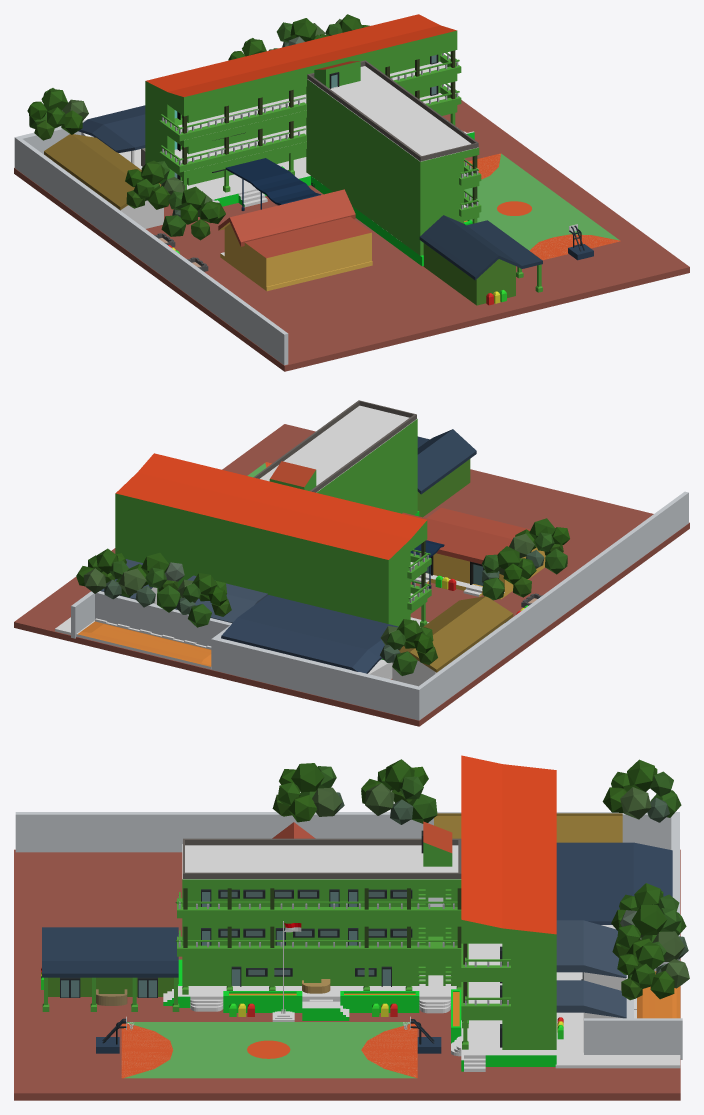
The model's file is sekolah 1.3.glb.
3 views of the same model, one above another, from view 1: azimuth 30°, elevation 25°; view 2: azimuth 150°, elevation 25°; view 3: azimuth 270°, elevation 25° (orthographic). The views are drawn at different scales.
Parts seen in each view (by area): view 1: Plane, bangunan lantai 2.003, Plane.002, Plane.001, bangunan lantai 2.002, ruang ukas dan ruang osis, Cube.047, bangunan lantai 2, bangunan lantai 2.001, Cube.006, bangunan lantai satu, bangunan lantai 1 (+4 smaller); view 2: Plane.001, bangunan lantai 2.003, Plane, bangunan lantai 2, Plane.002, bangunan lantai 2.002, ruang ukas dan ruang osis, Cube.006, Cube.047, Cube.008, bangunan lantai 2.001, pembatas rooftop (+5 smaller); view 3: Plane, Plane.001, Plane.002, bangunan lantai 2.003, bangunan lantai 2.002, lantai.001, bangunan lantai 2.001, Cube.047, bangunan lantai satu, Cube.008, pembatas rooftop, bangunan lantai 2 (+17 smaller).
Part boxes in pixels (x1,y1,x2,y2): Plane: (15, 100, 689, 365); bangunan lantai 2.003: (145, 14, 461, 141); Plane.002: (14, 101, 689, 371); Plane.001: (14, 105, 288, 365); bangunan lantai 2.002: (161, 52, 481, 192); ruang ukas dan ruang osis: (218, 189, 372, 291); Cube.047: (419, 215, 542, 305); bangunan lantai 2: (145, 61, 461, 172); bangunan lantai 2.001: (161, 83, 481, 224); Cube.006: (44, 134, 163, 228); bangunan lantai satu: (306, 142, 479, 255); bangunan lantai 1: (145, 93, 457, 192); Plane.001: (71, 491, 688, 720); bangunan lantai 2.003: (115, 453, 431, 591); Plane: (14, 424, 689, 720); bangunan lantai 2: (115, 525, 431, 622); Plane.002: (14, 425, 689, 726); bangunan lantai 2.002: (260, 405, 430, 571); ruang ukas dan ruang osis: (402, 507, 545, 599); Cube.006: (382, 596, 513, 686); Cube.047: (417, 429, 476, 517); Cube.008: (55, 617, 392, 679); bangunan lantai 2.001: (348, 450, 430, 602); pembatas rooftop: (253, 400, 416, 492); Plane: (14, 849, 680, 1093); Plane.001: (15, 812, 682, 1059); Plane.002: (14, 852, 680, 1100); bangunan lantai 2.003: (461, 755, 556, 975); bangunan lantai 2.002: (175, 844, 510, 966); lantai.001: (163, 959, 556, 1071); bangunan lantai 2.001: (176, 897, 510, 1005); Cube.047: (42, 927, 178, 996); bangunan lantai satu: (182, 936, 461, 994); Cube.008: (555, 925, 680, 1068); pembatas rooftop: (183, 838, 461, 878); bangunan lantai 2: (461, 943, 556, 1013).
Size of the model in its own units: 26.69 by 8.19 by 31.3.
